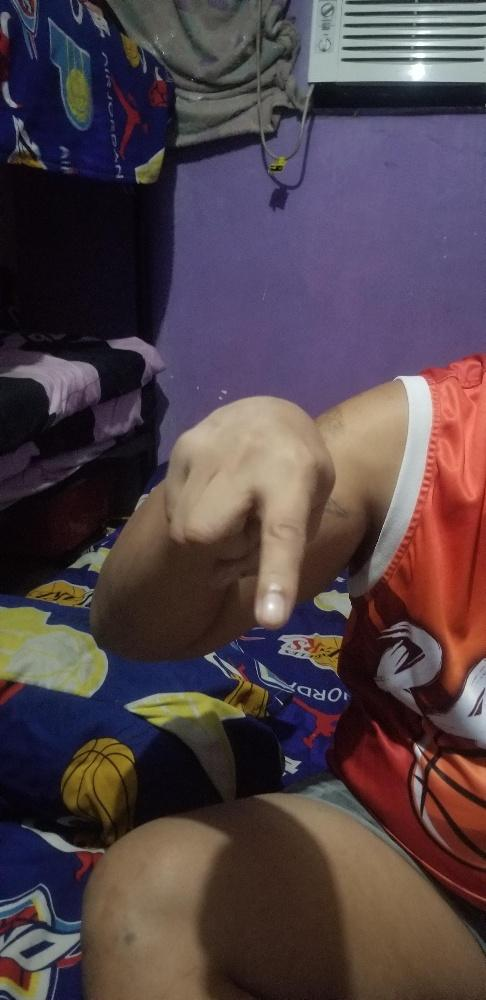z: (163, 394, 335, 627)
